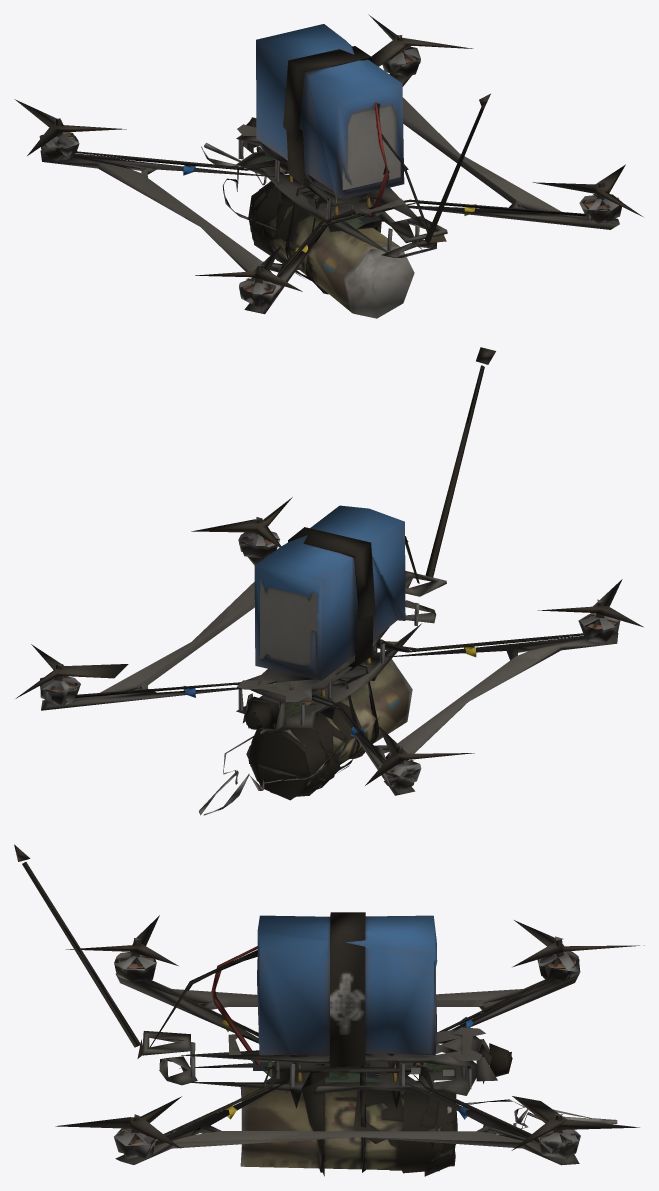
File: fpv_drone.glb
3 renders of one model, top to bottom at view 1: azimuth 30°, elevation 25°; view 2: azimuth 150°, elevation 25°; view 3: azimuth 270°, elevation 25°, orthographic. The views are drawn at different scales.
Parts seen in each view (by area): view 1: body, prop_fr, prop_rr, prop_rl, prop_fl; view 2: body, prop_fr, prop_fl, prop_rr, prop_rl; view 3: body, prop_fr, prop_rr, prop_fl, prop_rl.
Part boxes in pixels (<box>): body: <box>40,24,621,318</box>; prop_fr: <box>368,14,473,73</box>; prop_rr: <box>532,164,642,216</box>; prop_rl: <box>195,245,302,300</box>; prop_fl: <box>14,99,126,155</box>; body: <box>40,347,618,815</box>; prop_fr: <box>15,644,128,705</box>; prop_fl: <box>365,725,474,785</box>; prop_rr: <box>191,497,292,547</box>; prop_rl: <box>537,579,643,632</box>; body: <box>14,844,617,1176</box>; prop_fr: <box>511,1096,639,1158</box>; prop_rr: <box>55,1096,181,1148</box>; prop_fl: <box>512,920,644,977</box>; prop_rl: <box>66,915,178,970</box>.
Bounding box in the file's own units: 0.2414 × 0.1571 × 0.2777.
Materials: 1 (1 with a texture image).
